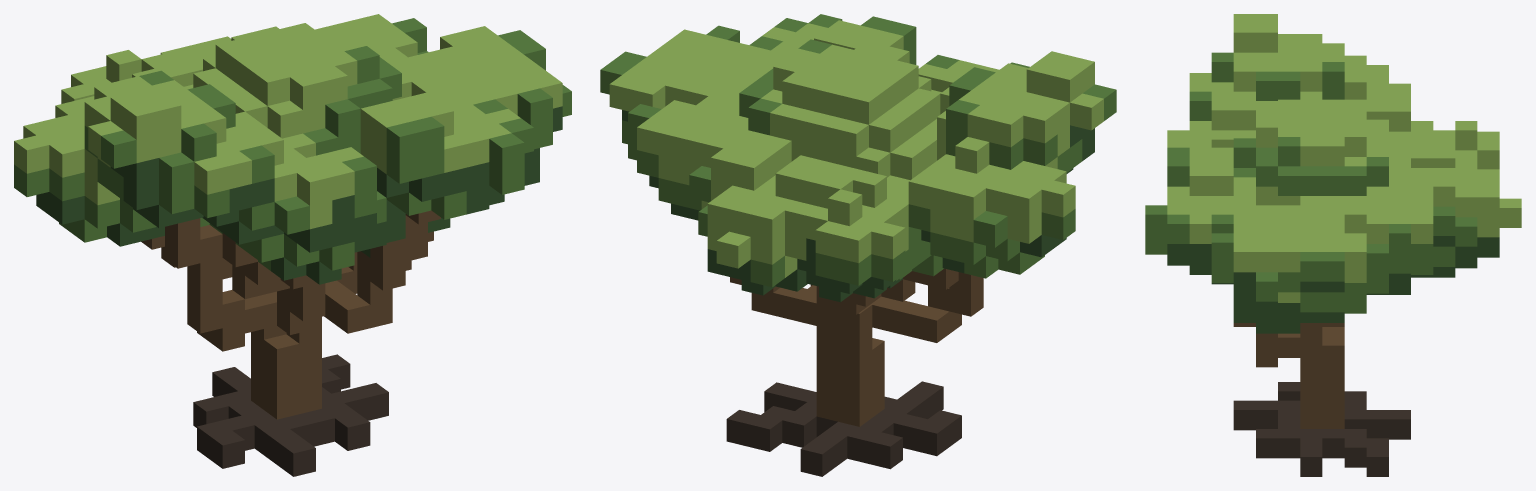
The model's file is ancient_oak_v2_far.glb.
3 renders of one model, left to right at view 1: azimuth 30°, elevation 25°; view 2: azimuth 150°, elevation 25°; view 3: azimuth 270°, elevation 25°, orthographic. The views are drawn at different scales.
Parts seen in each view (by area): view 1: ancient_oak_v2_far; view 2: ancient_oak_v2_far; view 3: ancient_oak_v2_far.
Boxes of the visible parts, x1,y1,x2,y2 form: ancient_oak_v2_far: [14, 14, 571, 476]; ancient_oak_v2_far: [600, 14, 1116, 476]; ancient_oak_v2_far: [1145, 14, 1521, 476].
Size of the model in its own units: 11 by 8.5 by 8.5.
1 material, 1 textured.
